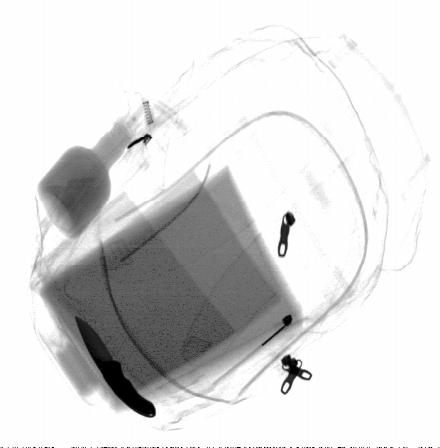Knife: (75, 314, 157, 420)
